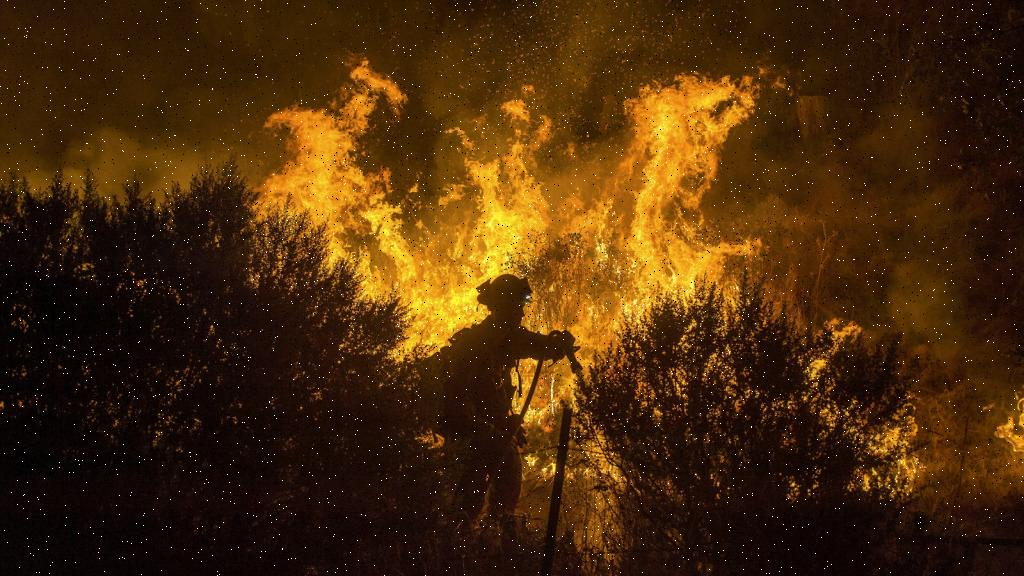fire: (206, 46, 1020, 512)
